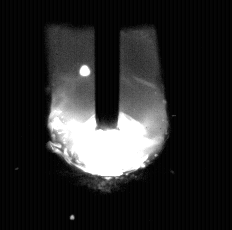arame: (96, 0, 121, 130)
poca: (52, 0, 165, 230)
